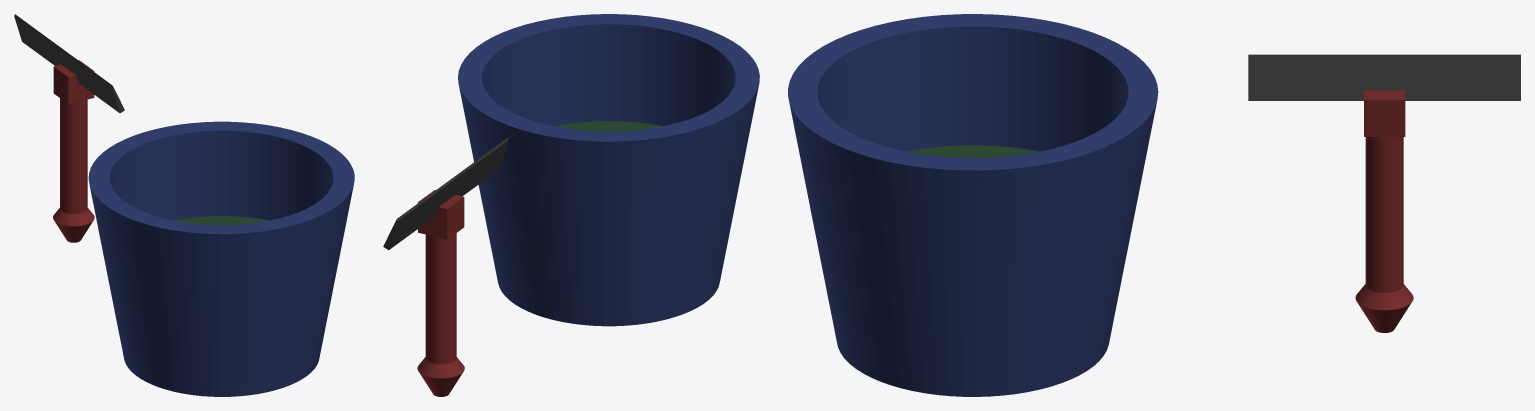
File: Cleaning_things.fbx
The picture shows the model from 3 angles, left to right: view 1: azimuth 30°, elevation 25°; view 2: azimuth 150°, elevation 25°; view 3: azimuth 270°, elevation 25°; orthographic projection. The views are drawn at different scales.
Parts seen in each view (by area): view 1: Cylinder, polySurface1; view 2: Cylinder, polySurface1; view 3: Cylinder, polySurface1.
Part boxes in pixels (left/top/right/bottom): Cylinder: left=88, top=121, right=354, bottom=396; polySurface1: left=14, top=14, right=124, bottom=242; Cylinder: left=458, top=14, right=759, bottom=326; polySurface1: left=383, top=138, right=508, bottom=396; Cylinder: left=788, top=14, right=1158, bottom=396; polySurface1: left=1248, top=54, right=1520, bottom=332.
Bounding box in the file's own units: 2.72 × 2.25 × 5.38.
